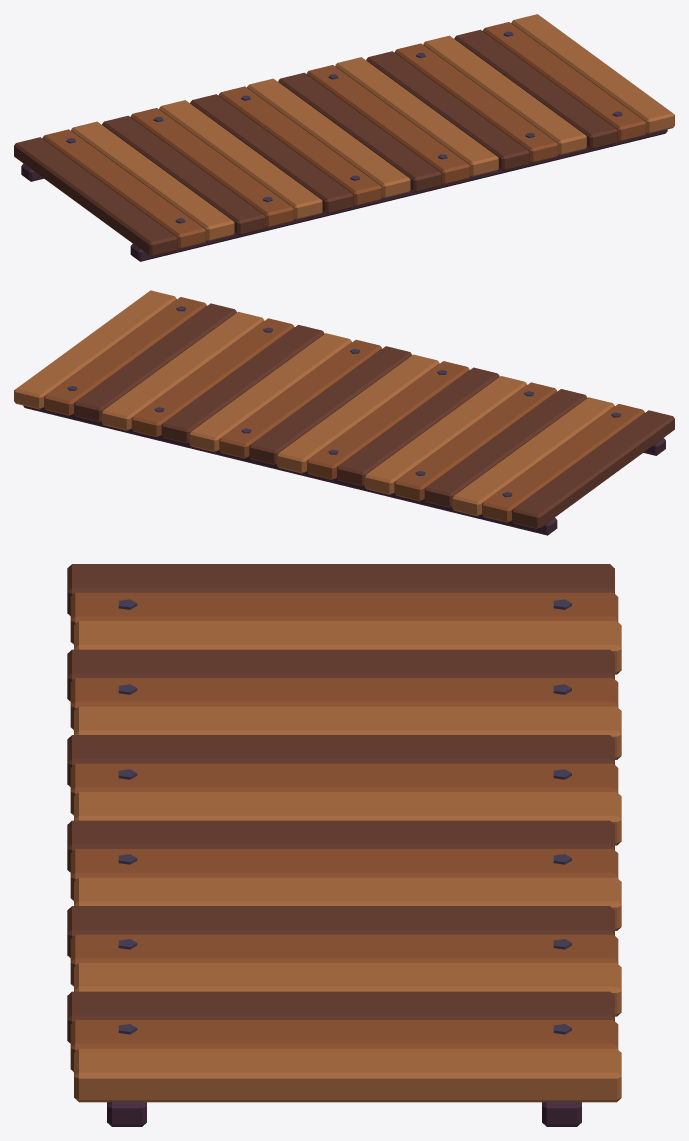
Rendered from grove_bridge.glb.
3 renders of one model, top to bottom at view 1: azimuth 30°, elevation 25°; view 2: azimuth 150°, elevation 25°; view 3: azimuth 270°, elevation 25°, orthographic. The views are drawn at different scales.
Visible parts, largest first — view 1: grove_bridge; view 2: grove_bridge; view 3: grove_bridge.
Part boxes in pixels (box(x1,y1,x2,y2)): grove_bridge: box(14, 14, 674, 261); grove_bridge: box(14, 290, 674, 535); grove_bridge: box(67, 564, 621, 1126).
Size of the model in its own units: 8.84 by 0.45 by 4.03.
